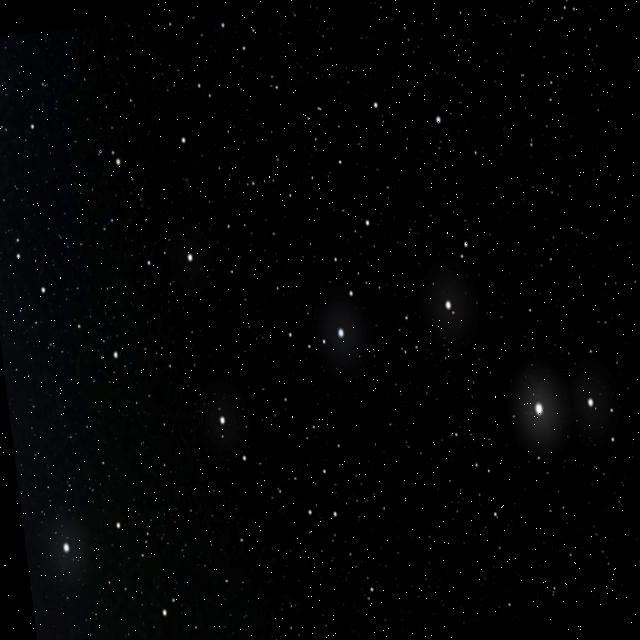Corona Borealis: (262, 243, 368, 366)
